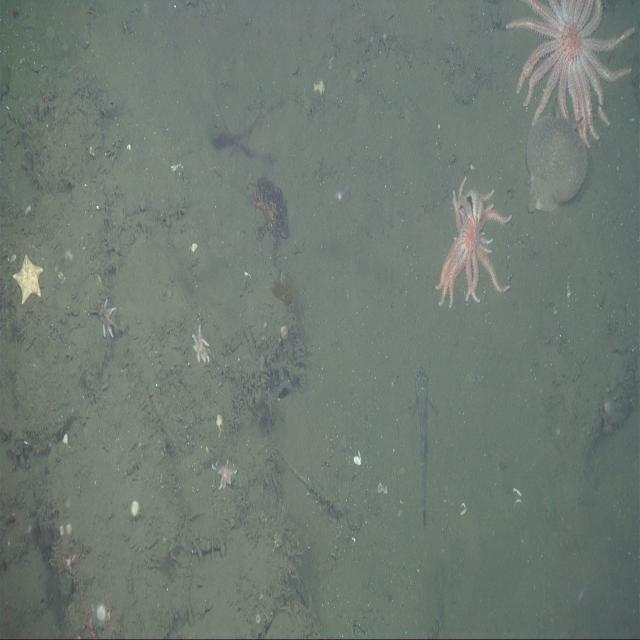Brittle Star: (62, 545, 81, 579)
Not Brittle Star: (506, 0, 634, 146), (432, 174, 514, 314), (524, 96, 590, 217), (408, 360, 442, 529), (245, 169, 292, 271), (11, 250, 44, 306), (188, 322, 211, 365), (209, 459, 239, 491), (100, 294, 118, 342)
